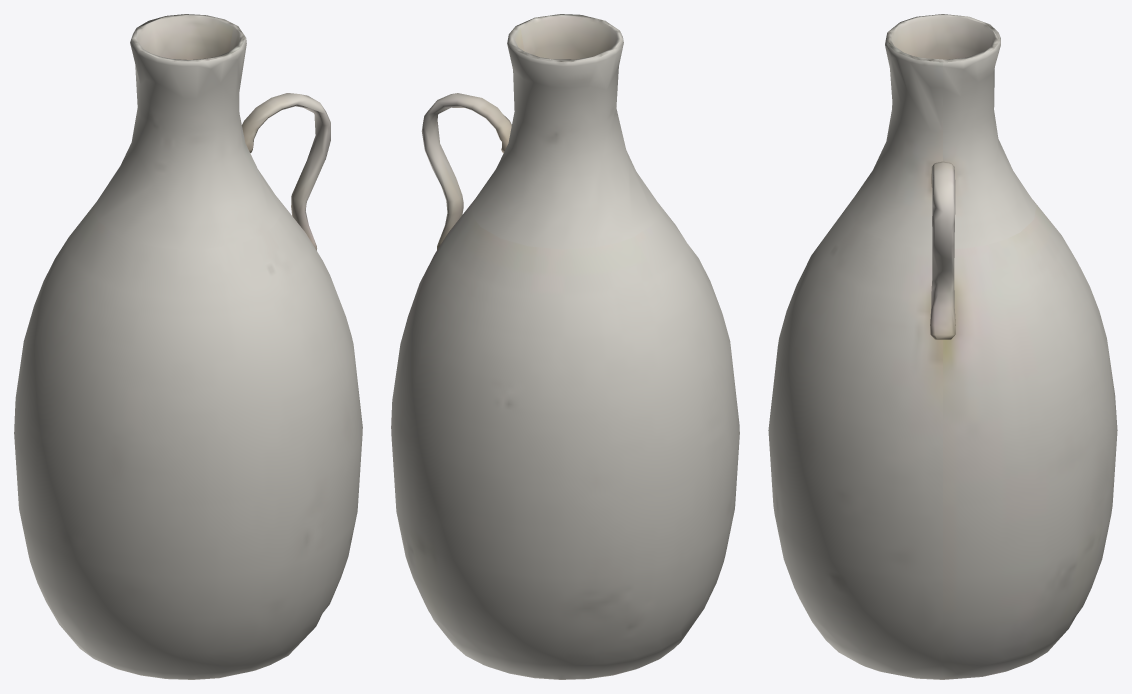
The model's file is ph_ceramic_vase_04.glb.
3 views of the same model, side by side, from view 1: azimuth 30°, elevation 25°; view 2: azimuth 150°, elevation 25°; view 3: azimuth 270°, elevation 25° (orthographic).
Visible parts, largest first — view 1: ceramic_vase_04; view 2: ceramic_vase_04; view 3: ceramic_vase_04.
Boxes of the visible parts, x1,y1,x2,y2 form: ceramic_vase_04: (14, 14, 362, 679); ceramic_vase_04: (391, 14, 739, 679); ceramic_vase_04: (768, 14, 1117, 679).
Bounding box in the file's own units: 0.1811 × 0.3419 × 0.1811.
Materials: 1 (1 with a texture image).
